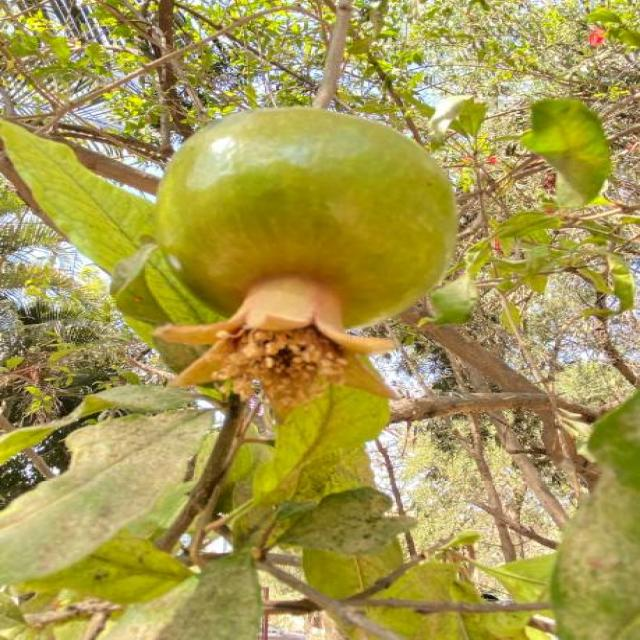Unripe: (150, 105, 460, 419)
